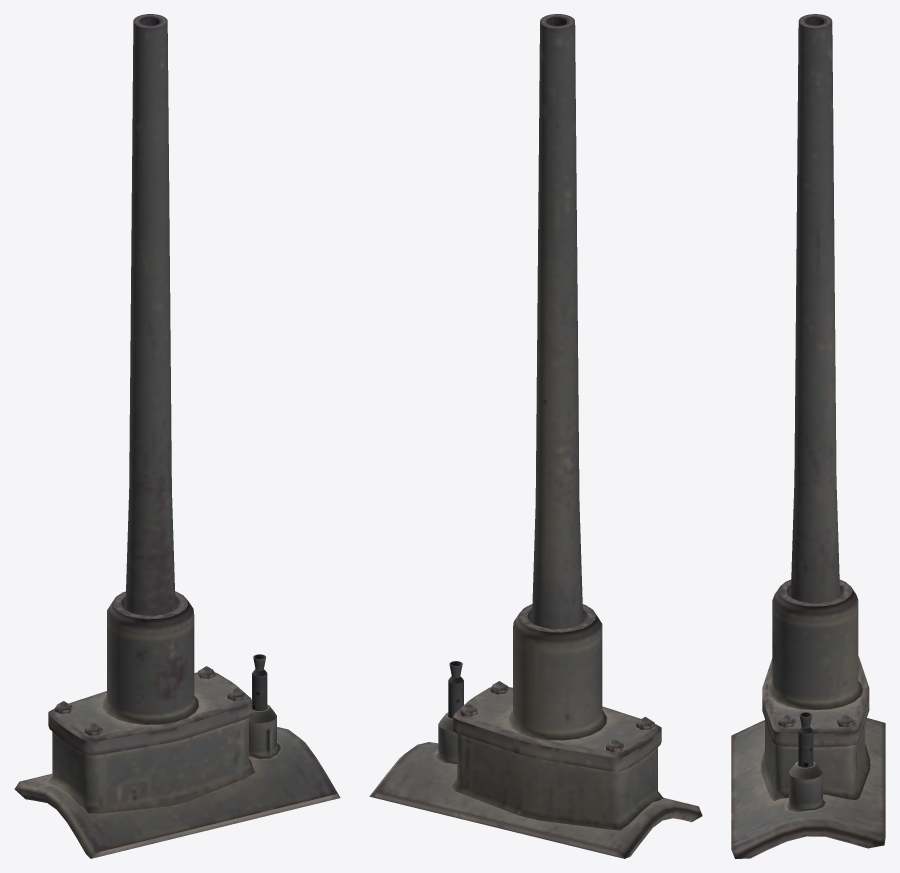
Rendered from Gun_01.glb.
3 renders of one model, left to right at view 1: azimuth 30°, elevation 25°; view 2: azimuth 150°, elevation 25°; view 3: azimuth 270°, elevation 25°, orthographic. The views are drawn at different scales.
Visible parts, largest first — view 1: set_0_group_0; view 2: set_0_group_0; view 3: set_0_group_0.
Boxes of the visible parts, box(x1,y1,x2,y2) form: set_0_group_0: box(14, 14, 340, 858); set_0_group_0: box(369, 14, 702, 858); set_0_group_0: box(731, 14, 885, 858).
Size of the model in its own units: 0.7641 by 2.29 by 0.4174.
Materials: 1 (1 with a texture image).
